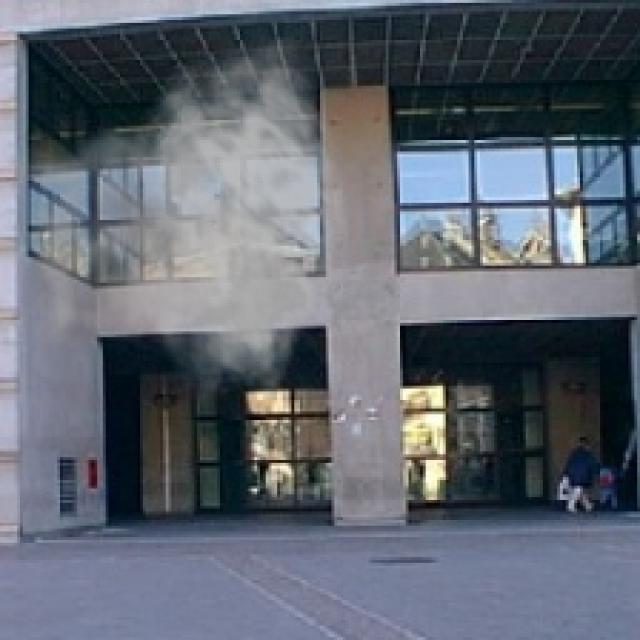smoke: (3, 37, 351, 414)
